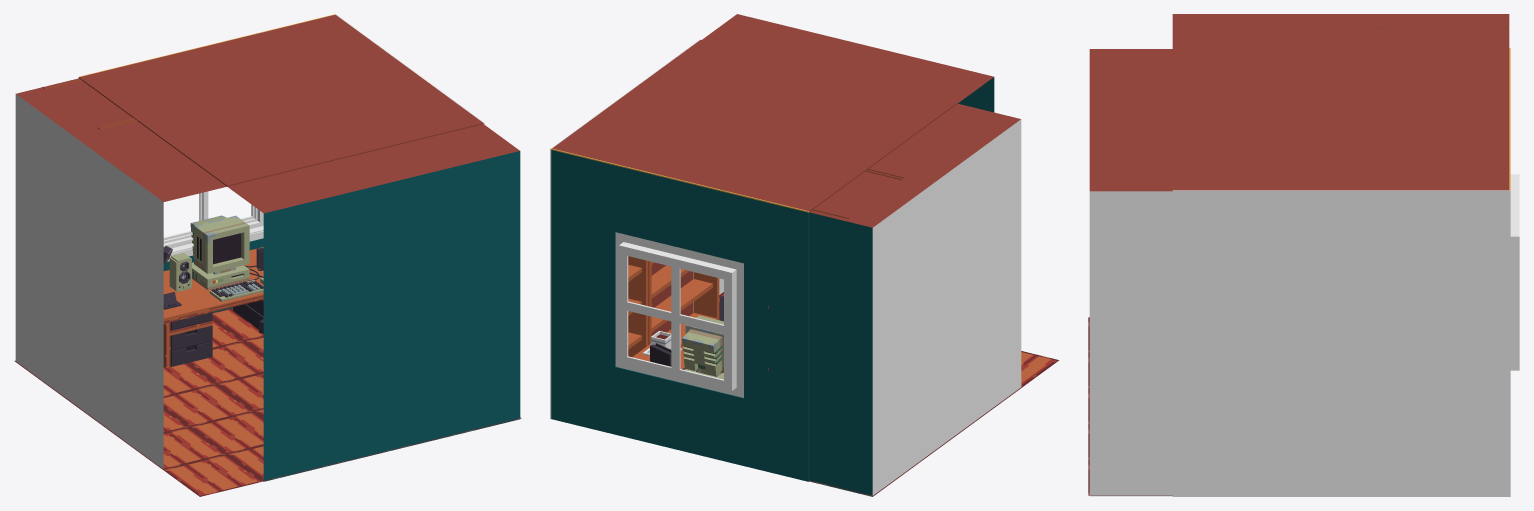
Rendered from VoxelRoomBlend.glb.
The picture shows the model from 3 angles, left to right: view 1: azimuth 30°, elevation 25°; view 2: azimuth 150°, elevation 25°; view 3: azimuth 270°, elevation 25°; orthographic projection. The views are drawn at different scales.
Visible parts, largest first — view 1: VoxelRoom; view 2: VoxelRoom; view 3: VoxelRoom.
Part boxes in pixels (bbox=[...]): VoxelRoom: bbox=[14, 14, 521, 496]; VoxelRoom: bbox=[550, 14, 1058, 496]; VoxelRoom: bbox=[1088, 14, 1519, 496].
Size of the model in its own units: 3.2 by 2.56 by 3.27.
4 materials, 3 textured.
